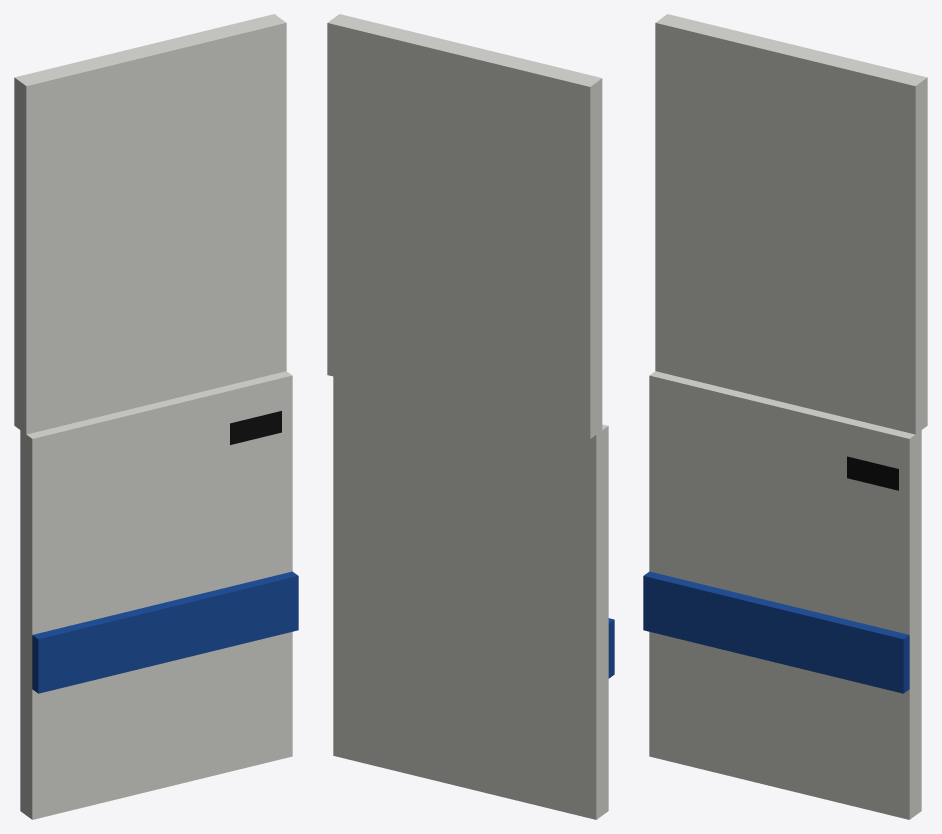
The model's file is cube_van_side_door.glb.
3 renders of one model, left to right at view 1: azimuth 30°, elevation 25°; view 2: azimuth 150°, elevation 25°; view 3: azimuth 330°, elevation 25°, orthographic.
Visible parts, largest first — view 1: body:compound; view 2: body:compound; view 3: body:compound.
Part boxes in pixels (<box>): body:compound: <box>14,14,298,819</box>; body:compound: <box>327,14,614,819</box>; body:compound: <box>643,14,927,819</box>.
Size of the model in its own units: 0.7812 by 2.09 by 0.125.
